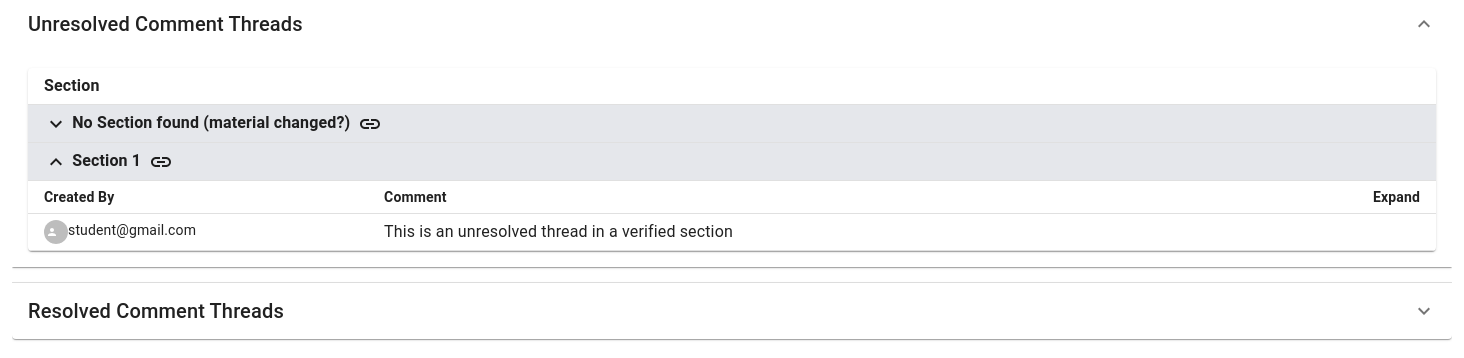
Test: EventCommentThreads component › For threads in 'Section 1' › can hide sections
Check: the link "This is an unresolved thread in a verified section" is shown, box [384, 222, 733, 240]
Click the row with test id "section:Section 1:unresolved".
click(732, 161)  # box [28, 142, 1436, 180]
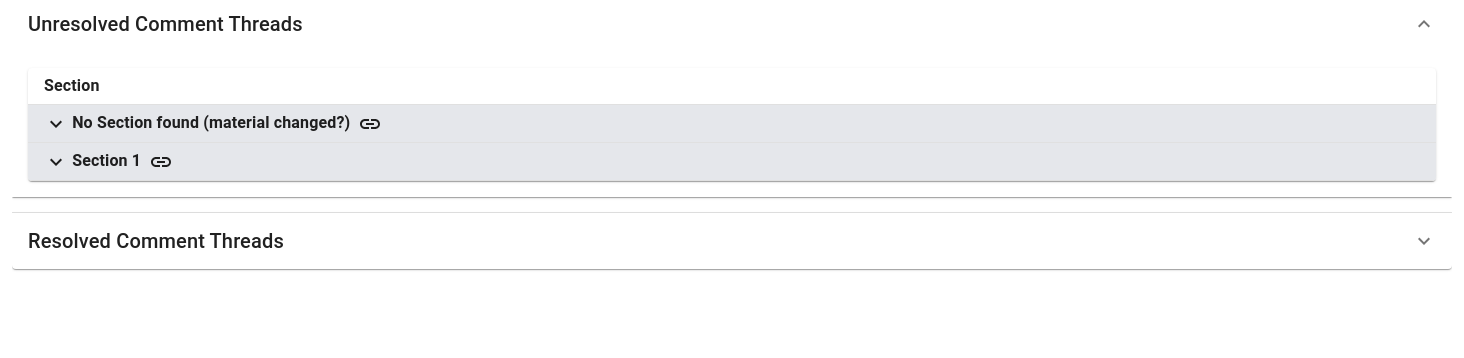
Check: the link "This is an unresolved thread in a verified section" is gone
